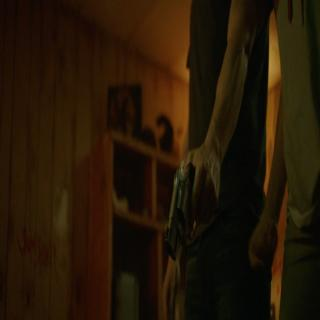gun: (162, 147, 218, 264)
